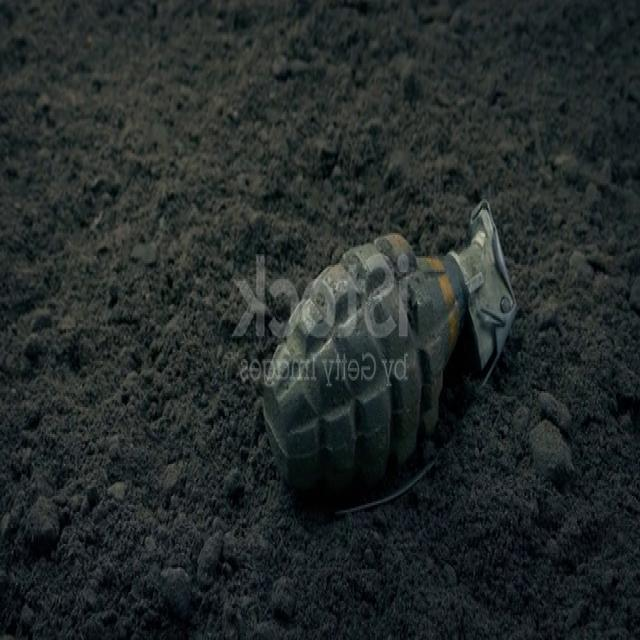grenade: (264, 192, 514, 519)
